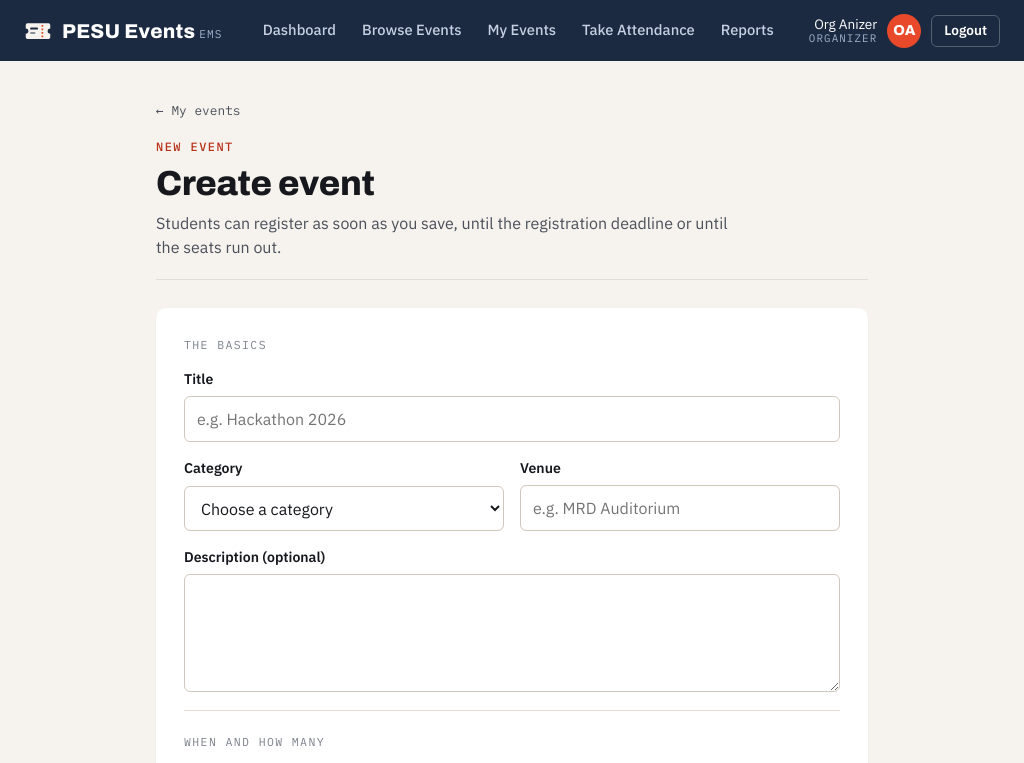
Test: Create Event › TC-EVENT-01, TC-EVENT-03: a valid event is sent and its details page opens
Type "Robotics Workshop" into the field labelled "Title".
click(512, 419); type("Robotics Workshop")  # box top-left (184, 396), bottom-right (840, 442)
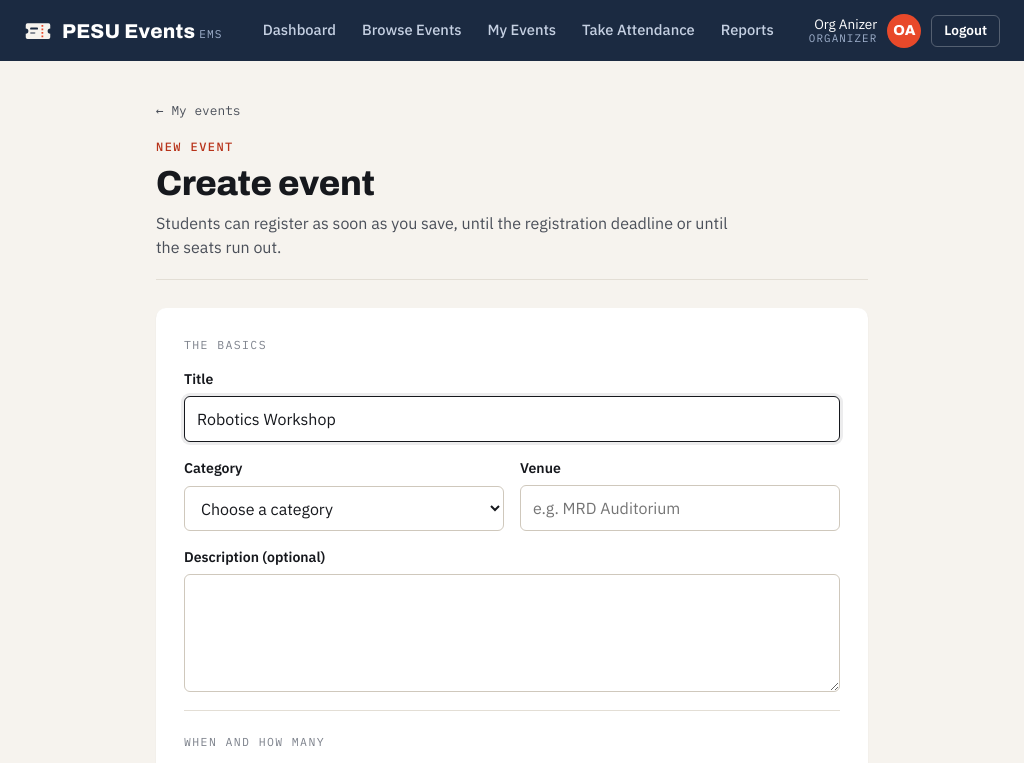
Select "Workshop" in the dropdown labelled "Category" at {"x": 344, "y": 508}, box top-left (184, 486), bottom-right (504, 531)
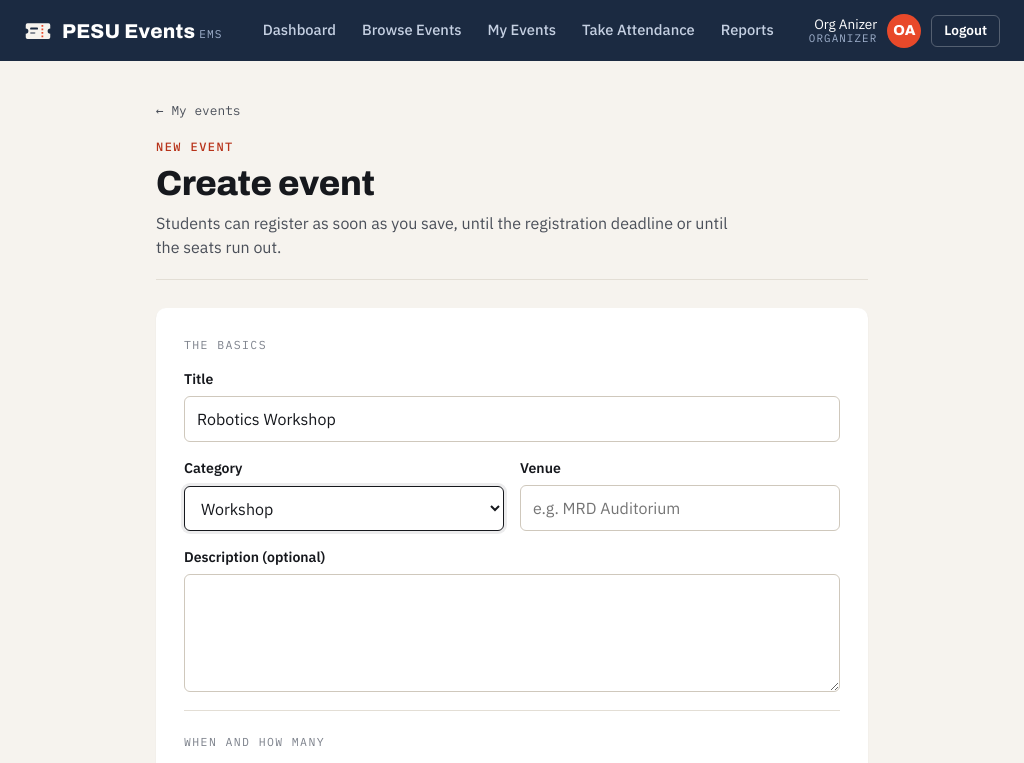
Type "Lab 3" into the field labelled "Venue".
click(680, 508); type("Lab 3")  # box top-left (520, 485), bottom-right (840, 531)
(page scrolled)
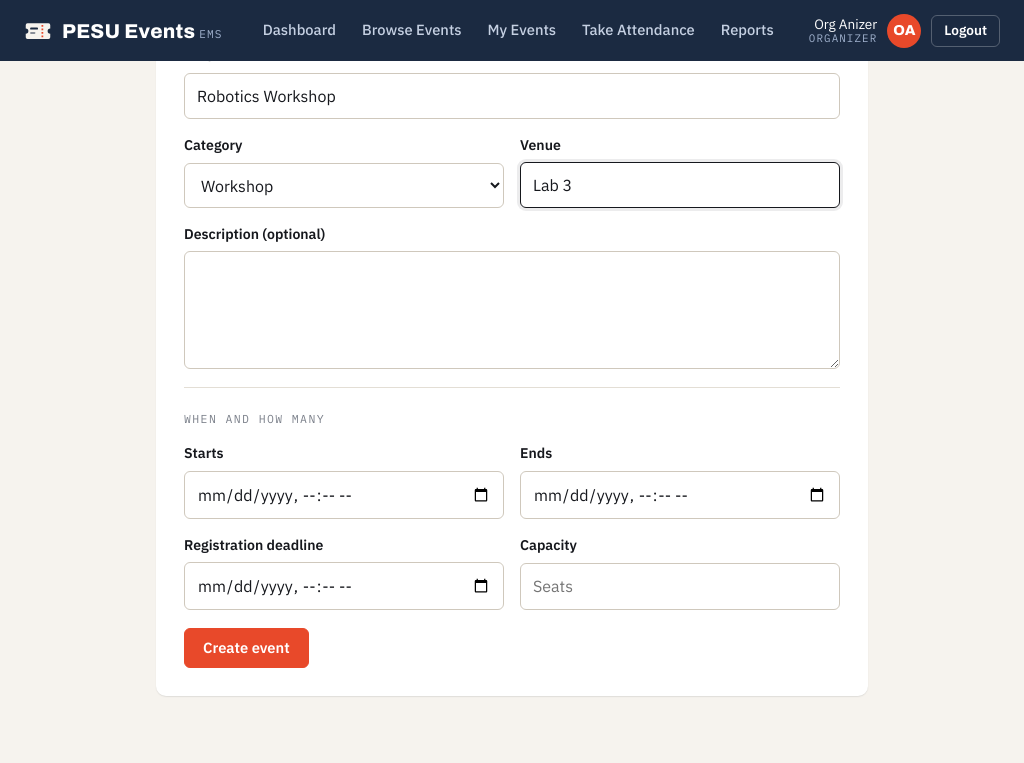
Type "20" into the number field labelled "Capacity".
click(680, 586); type("20")  # box top-left (520, 563), bottom-right (840, 610)
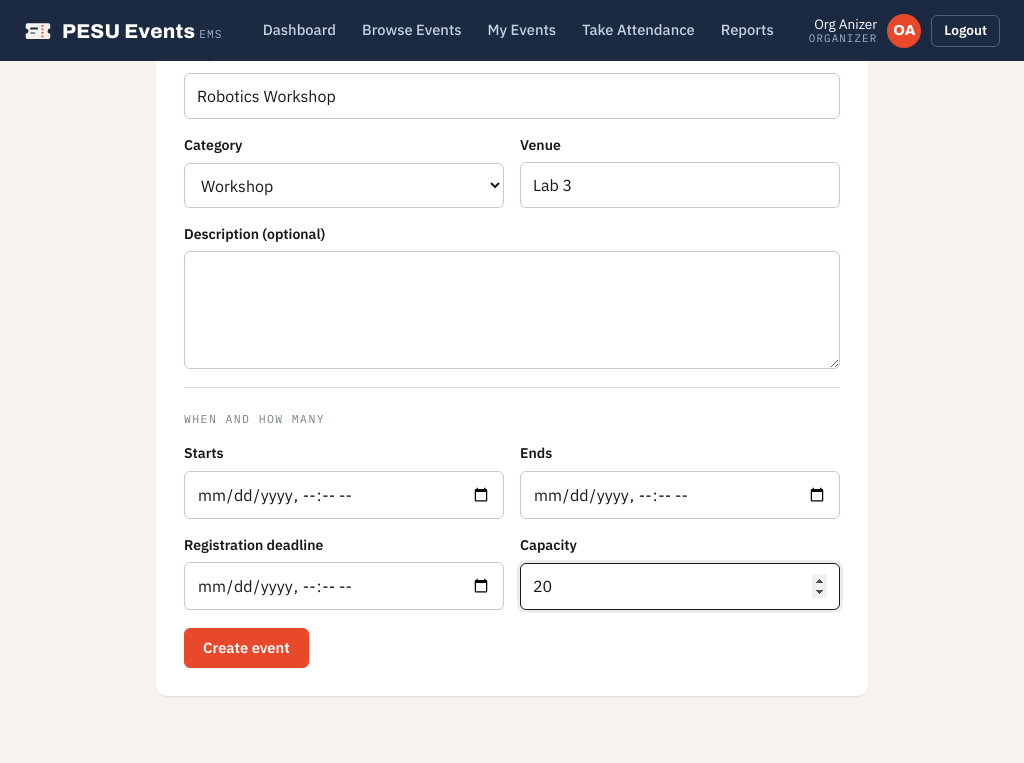
Click the button "Create event".
click(246, 648)  # box top-left (184, 628), bottom-right (309, 668)
(page scrolled)
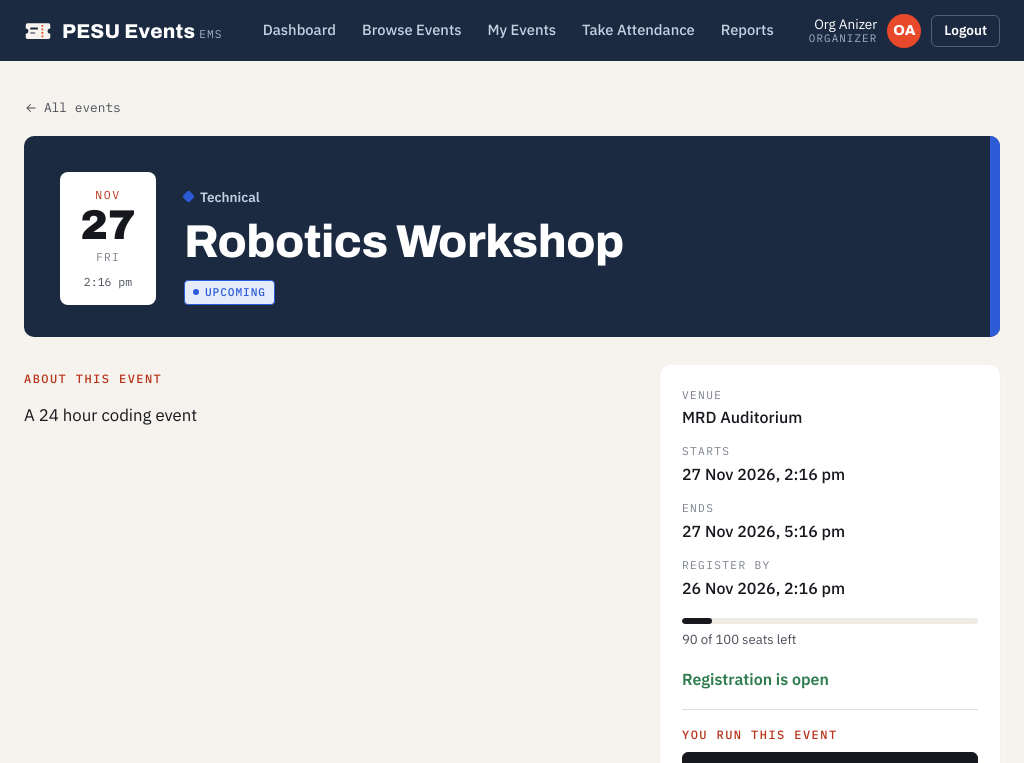
Expected: the heading "Robotics Workshop" is shown, top-left (184, 217), bottom-right (624, 268)
